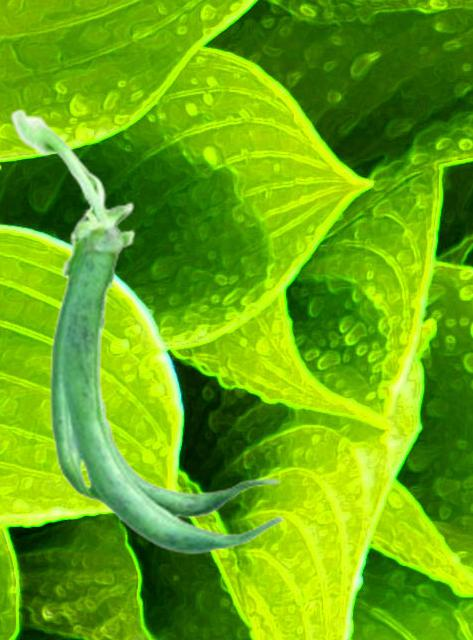french_bean: (9, 108, 283, 554)
